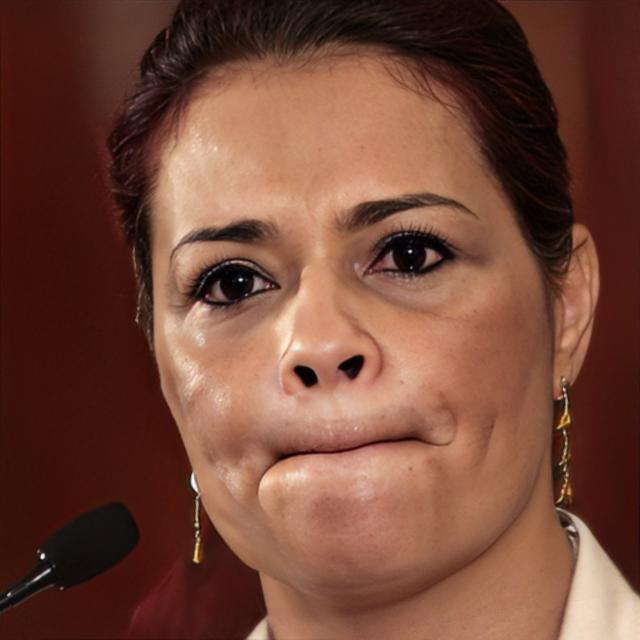anger: (149, 54, 552, 589)
